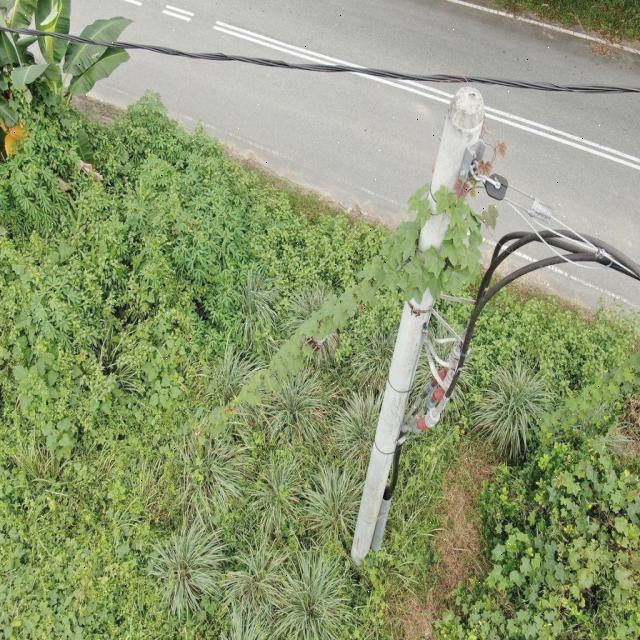critical vegetation: (163, 133, 508, 454)
